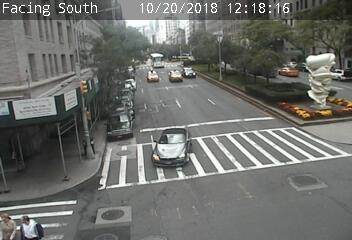car: (152, 128, 191, 167), (149, 53, 164, 68), (168, 69, 183, 83), (182, 67, 196, 78), (147, 70, 158, 81)
